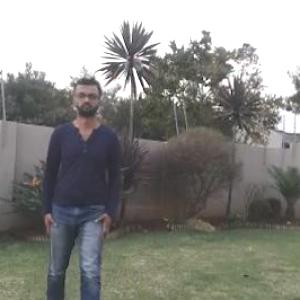follow: (36, 57, 129, 299)
